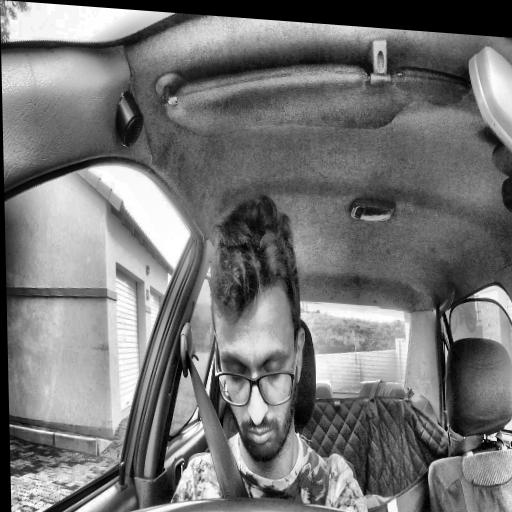drowsy: (203, 192, 309, 463)
